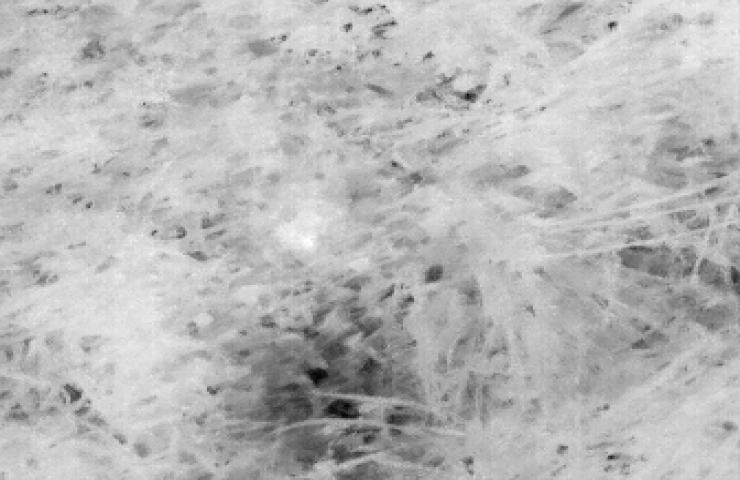landmines: (249, 165, 356, 258)
